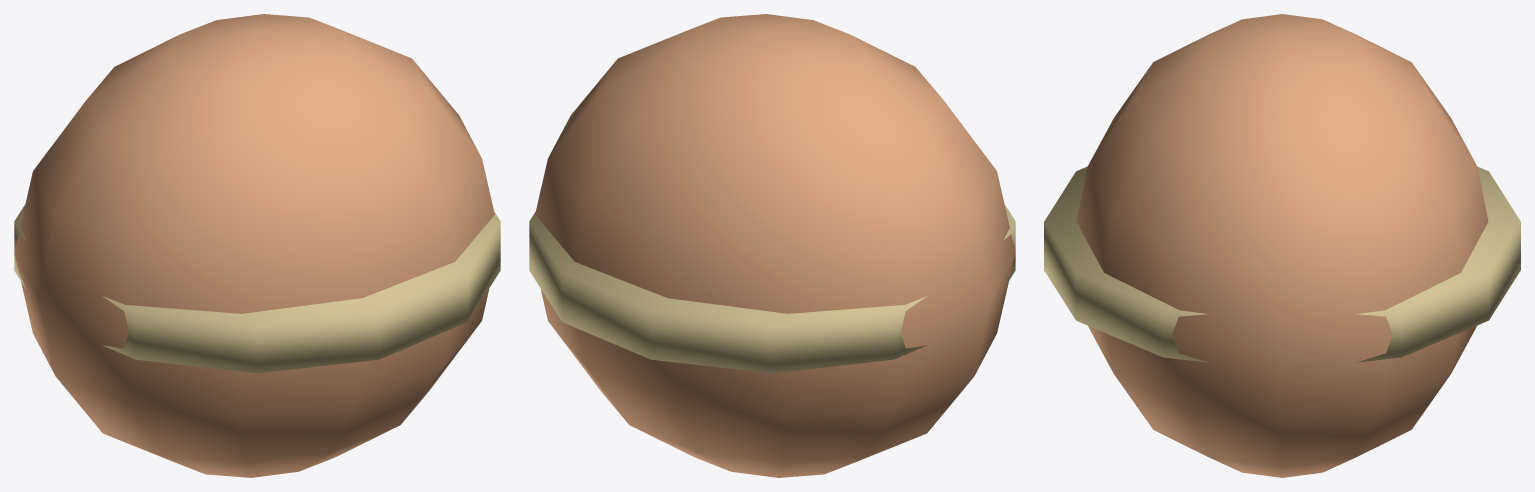
Rendered from cargo.glb.
3 renders of one model, left to right at view 1: azimuth 30°, elevation 25°; view 2: azimuth 150°, elevation 25°; view 3: azimuth 270°, elevation 25°, orthographic.
Visible parts, largest first — view 1: CargoBundle; view 2: CargoBundle; view 3: CargoBundle.
Boxes of the visible parts, <box> form: CargoBundle: <box>14,14,500,477</box>; CargoBundle: <box>529,14,1015,477</box>; CargoBundle: <box>1044,14,1520,477</box>.
Bounding box in the file's own units: 0.324 × 0.3 × 0.312.
